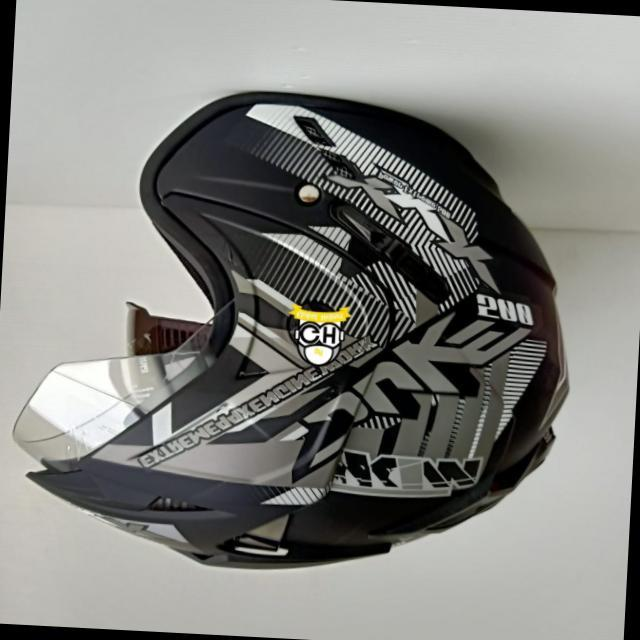Helm: (5, 63, 589, 597)
